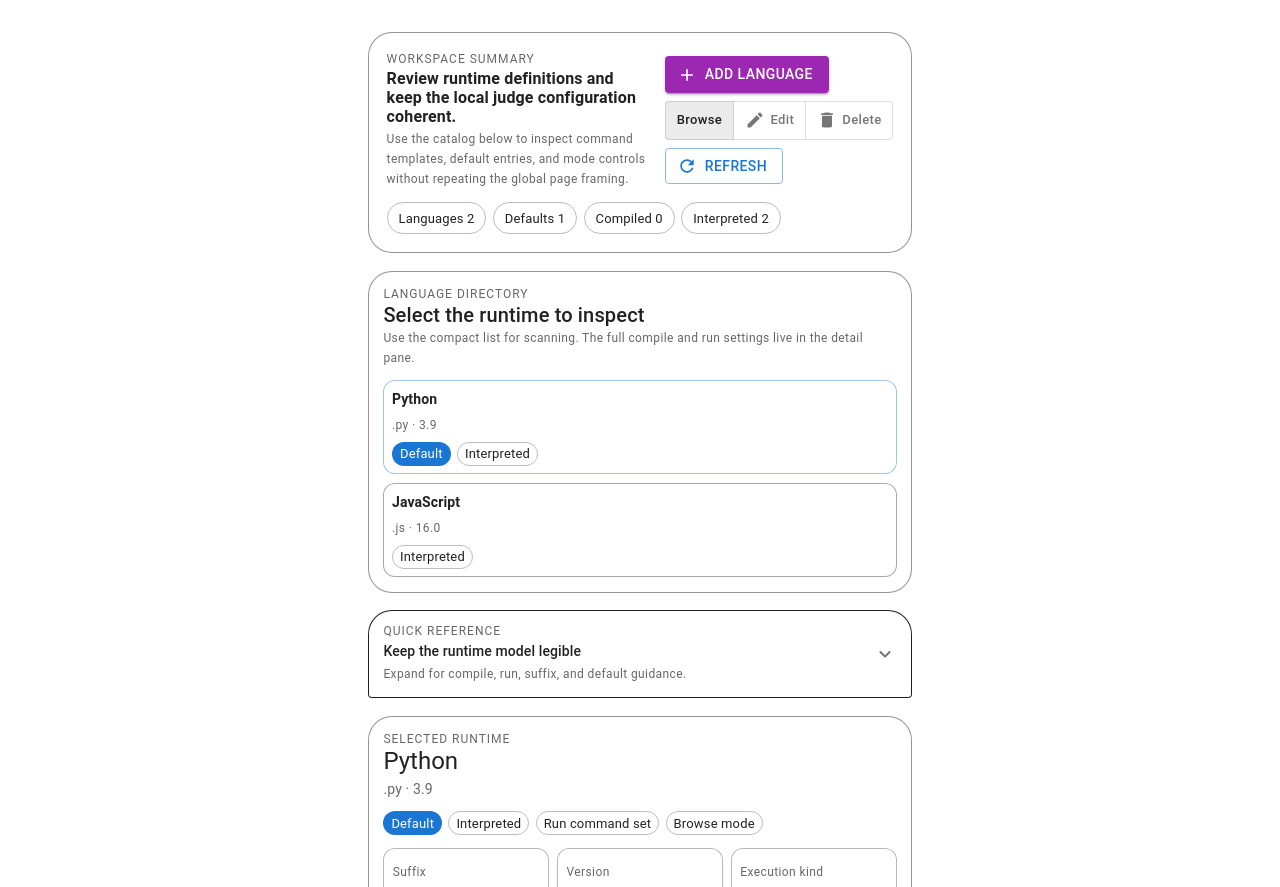
Scenario: LanguageAdmin Component › edits an existing language successfully
Expected: the heading "Python" below "Select the runtime to inspect" is shown, [392,391,437,407]
// Enable edit mode and wait for it to take effect
Click the button with aria-label "edit mode".
click(769, 120)  # box [733,101,806,140]
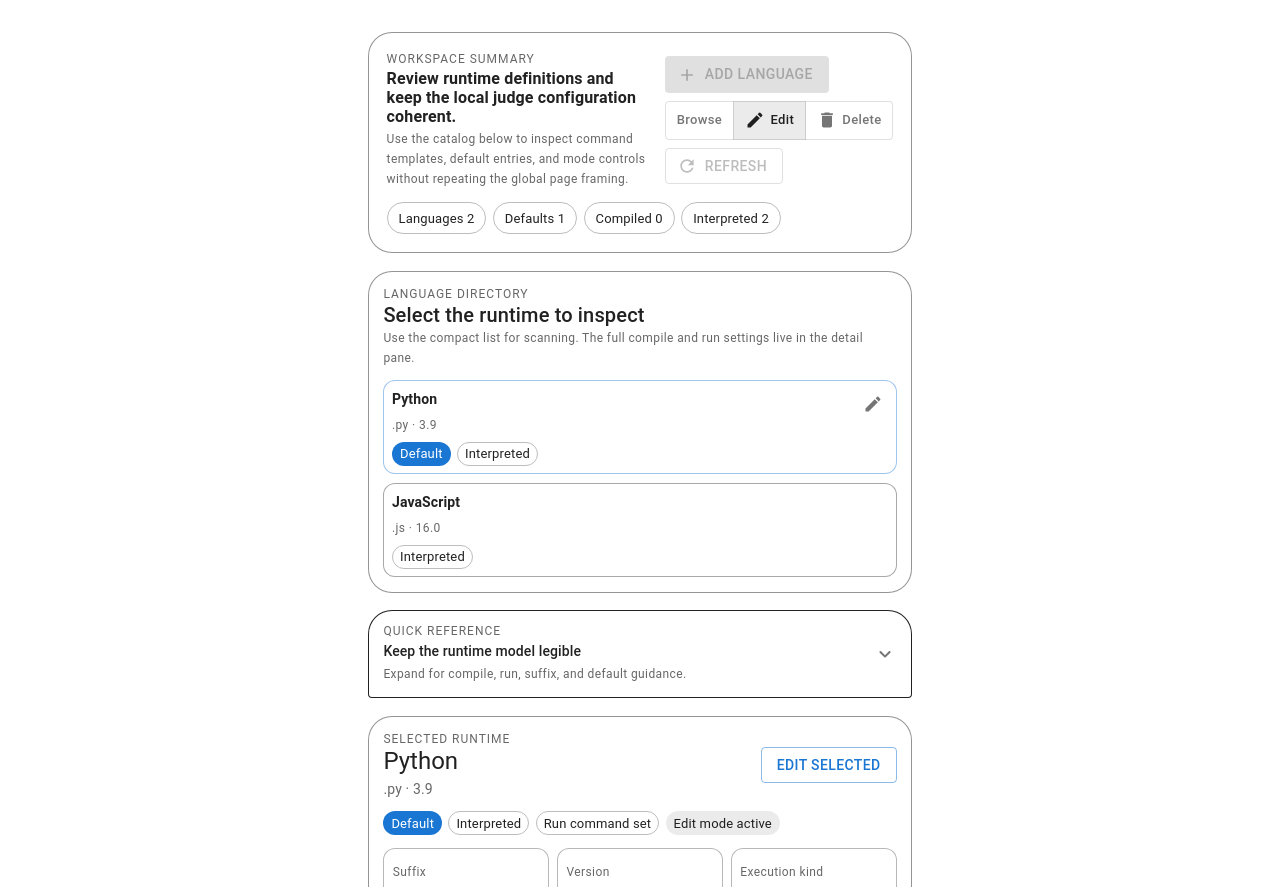
Expected: the button named "edit python" is shown
// Click edit button for Python
Click the button named "edit python".
click(873, 404)  # box [858,389,888,419]
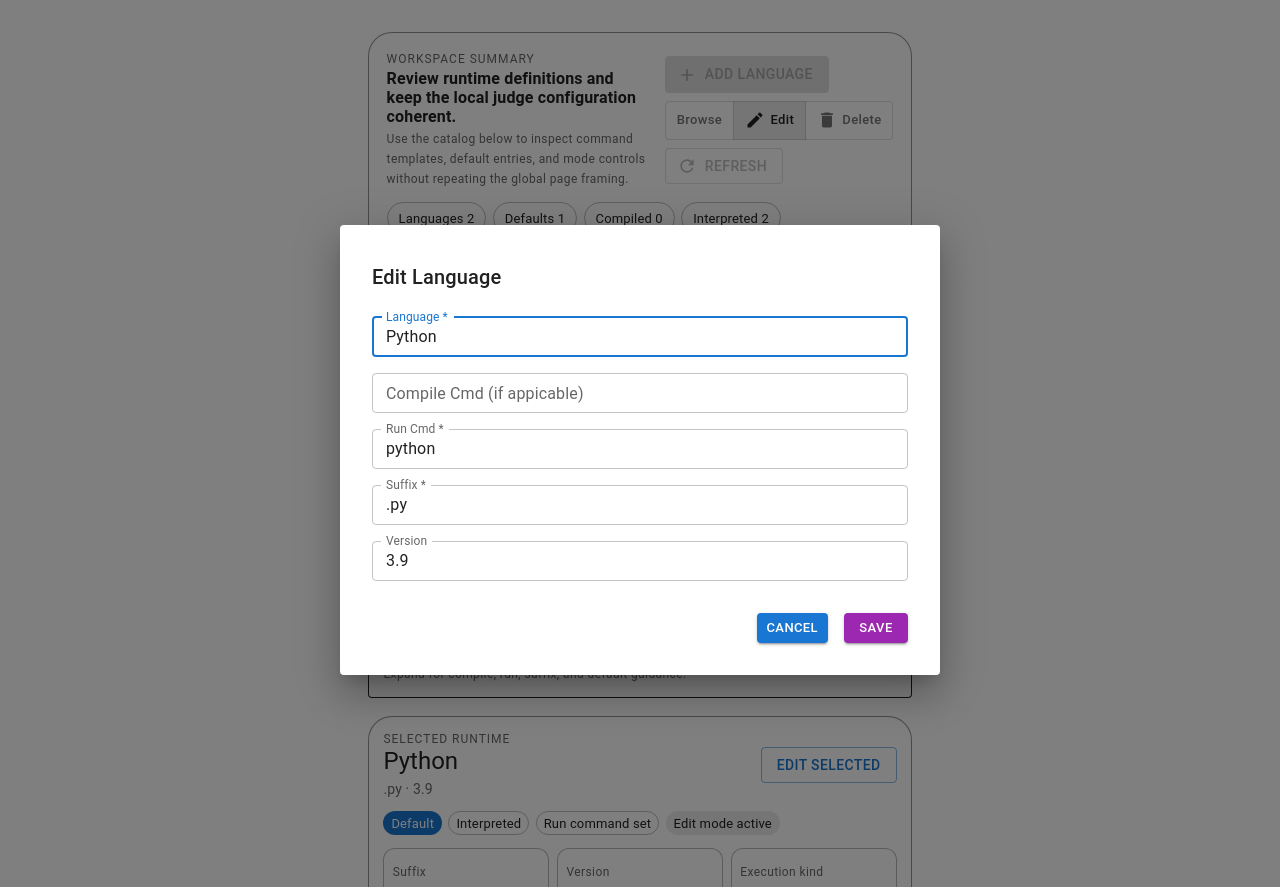
Expected: the dialog is shown, [340,225,940,675]
Replace the text in the field labelled "Language *" with "Updated Python" at (640, 337), box [372,317,908,357]
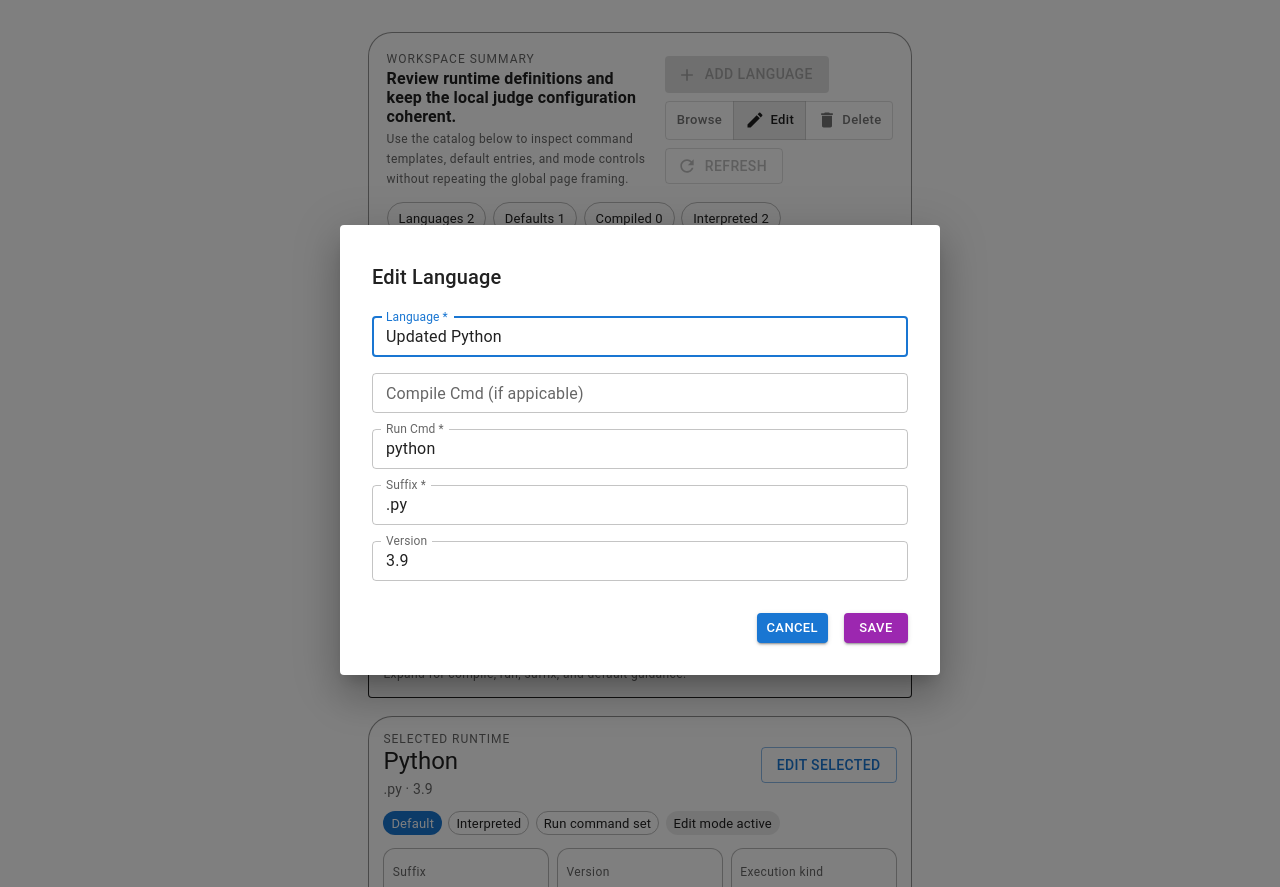
Click the button "Save".
click(876, 628)  # box [844,613,908,643]
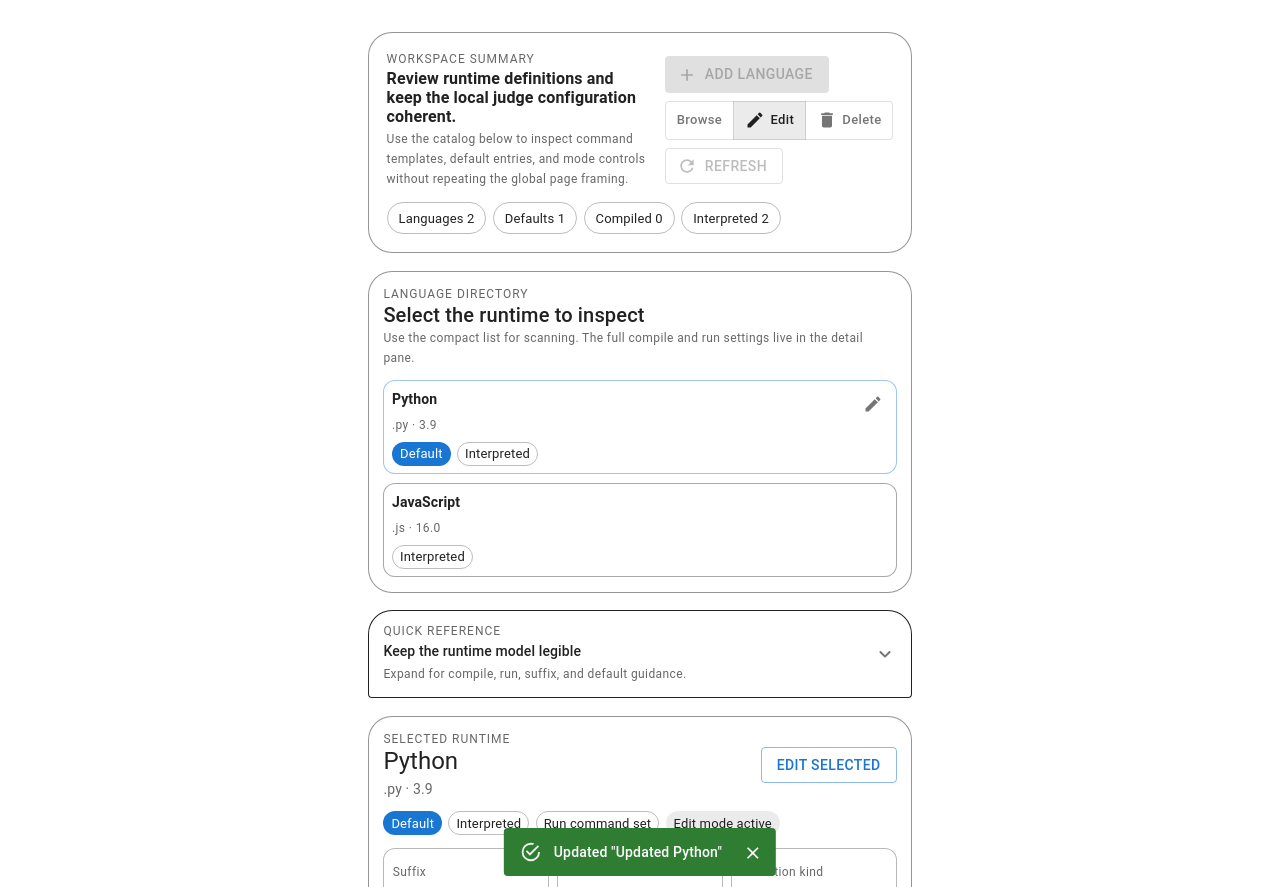
Expected: the text "Updated \"Updated Python\"" is shown, [554,844,722,860]
